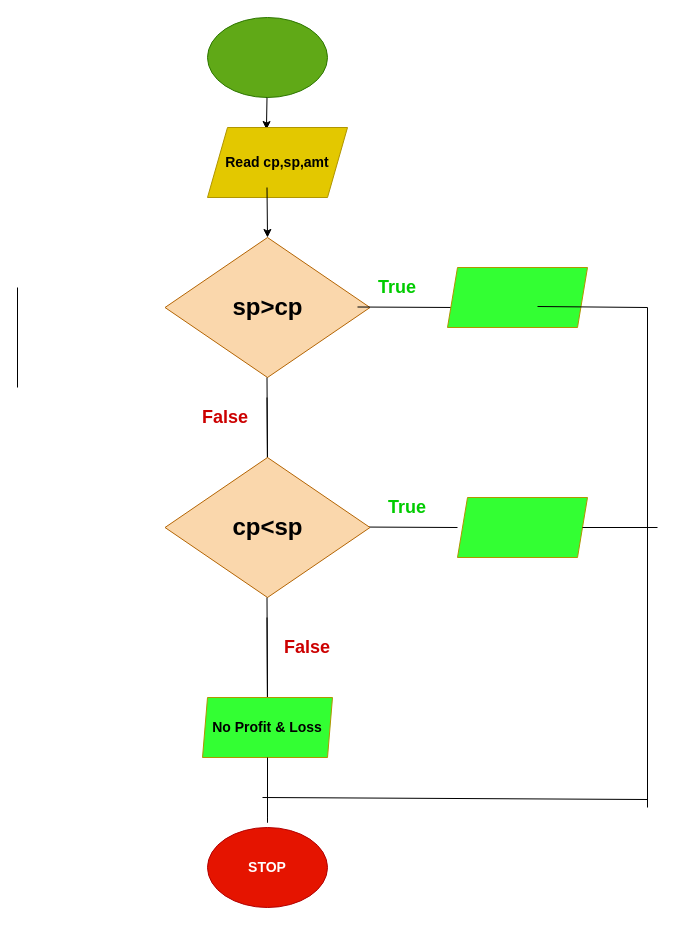
The diagram is 676 pixels wide and 925 high, and some of its shapes have lost their labels. The shapes that lost their labels are listed below. From the top down, each one's centre as x and y in pixels, then its label:
At point 267,57: "START".
At point 517,297: "Profit".
At point 522,527: "Loss".
